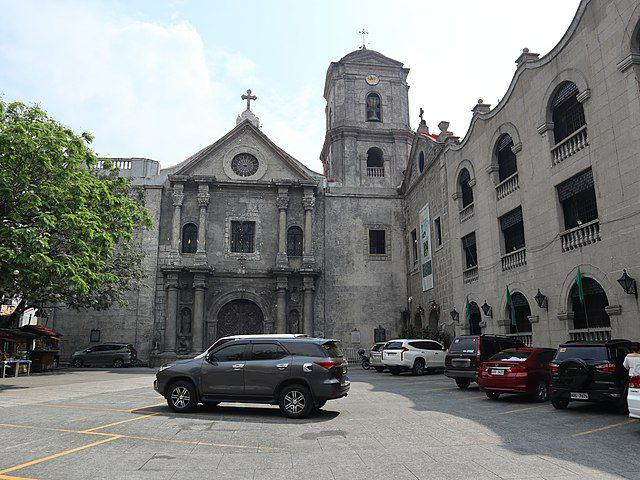San Agustin Church: (153, 27, 417, 365)
